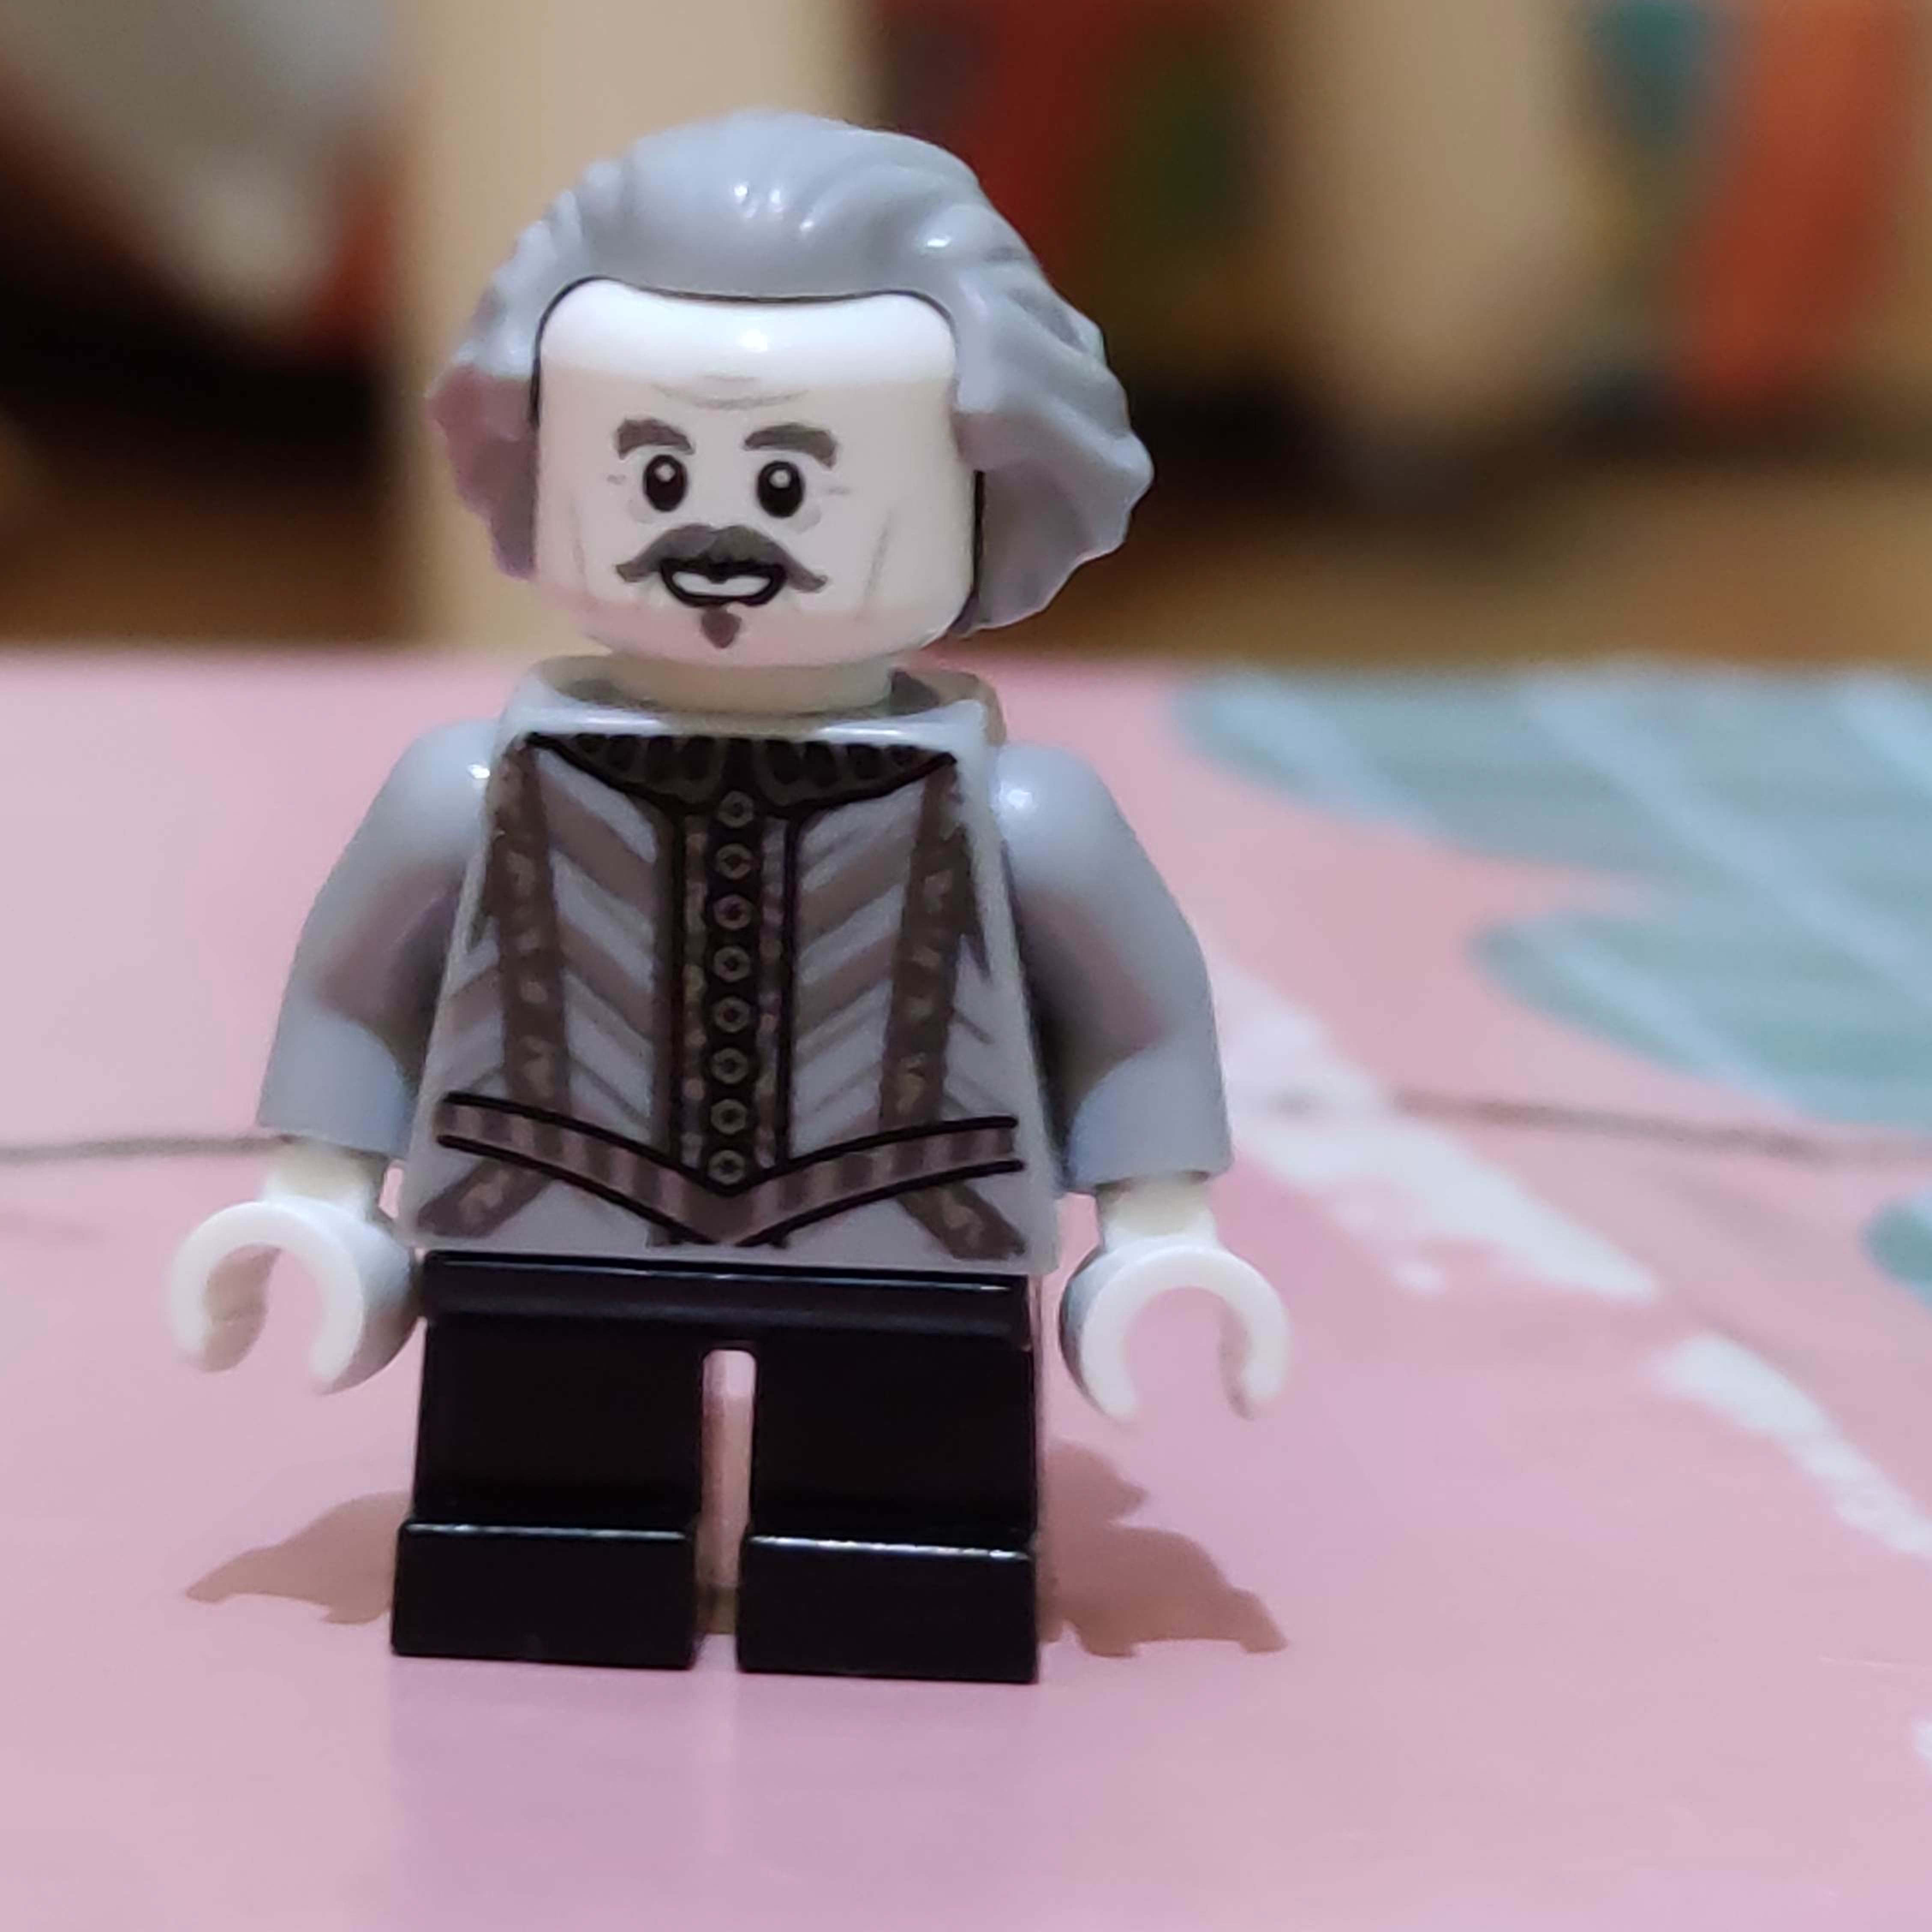lego: (166, 111, 1302, 1690)
